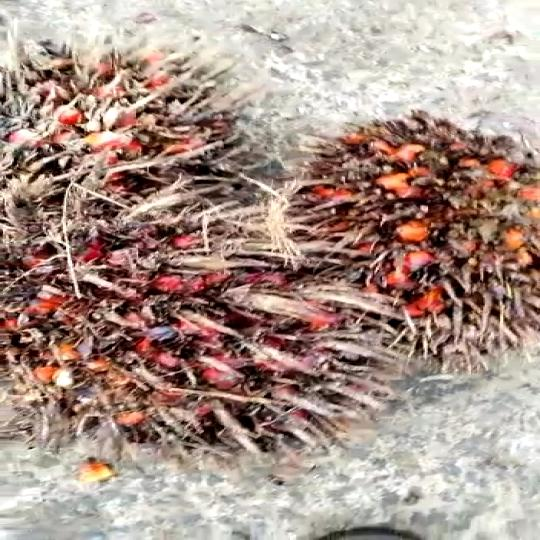terlalu masak: (0, 226, 384, 447), (293, 118, 540, 336)
